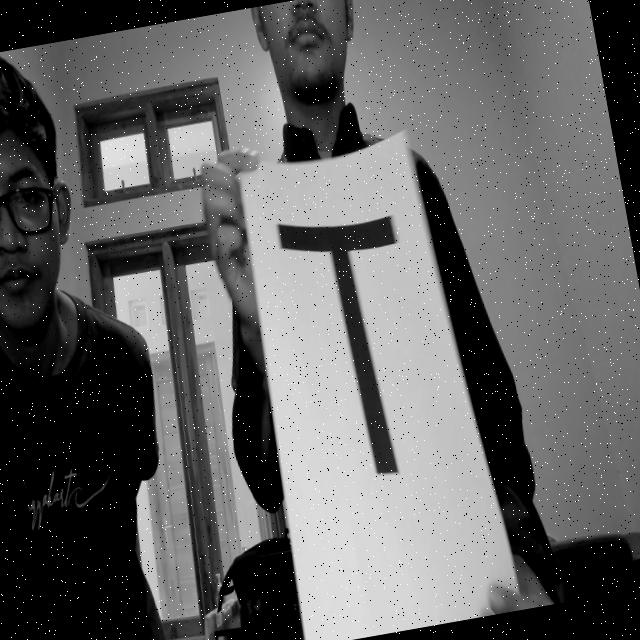t: (266, 186, 447, 500)
